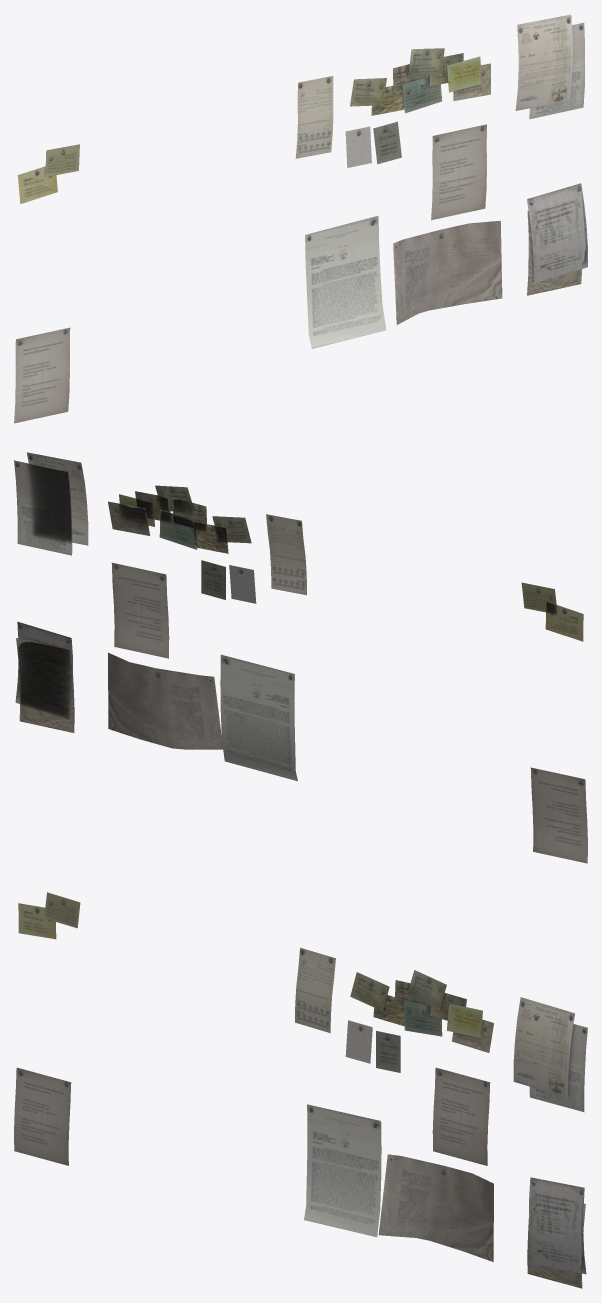
The model's file is pinned_notices.glb.
3 views of the same model, one above another, from view 1: azimuth 30°, elevation 25°; view 2: azimuth 150°, elevation 25°; view 3: azimuth 330°, elevation 25° (orthographic).
Visible parts, largest first — view 1: Hospital_02_103m_0; view 2: Hospital_02_103m_0; view 3: Hospital_02_103m_0.
Part boxes in pixels (x1,y1,x2,y2): Hospital_02_103m_0: (14,14,587,423); Hospital_02_103m_0: (14,452,587,863); Hospital_02_103m_0: (14,892,587,1288).
Bounding box in the file's own units: 2.13 × 0.9922 × 0.0678.
Materials: 1 (1 with a texture image).
